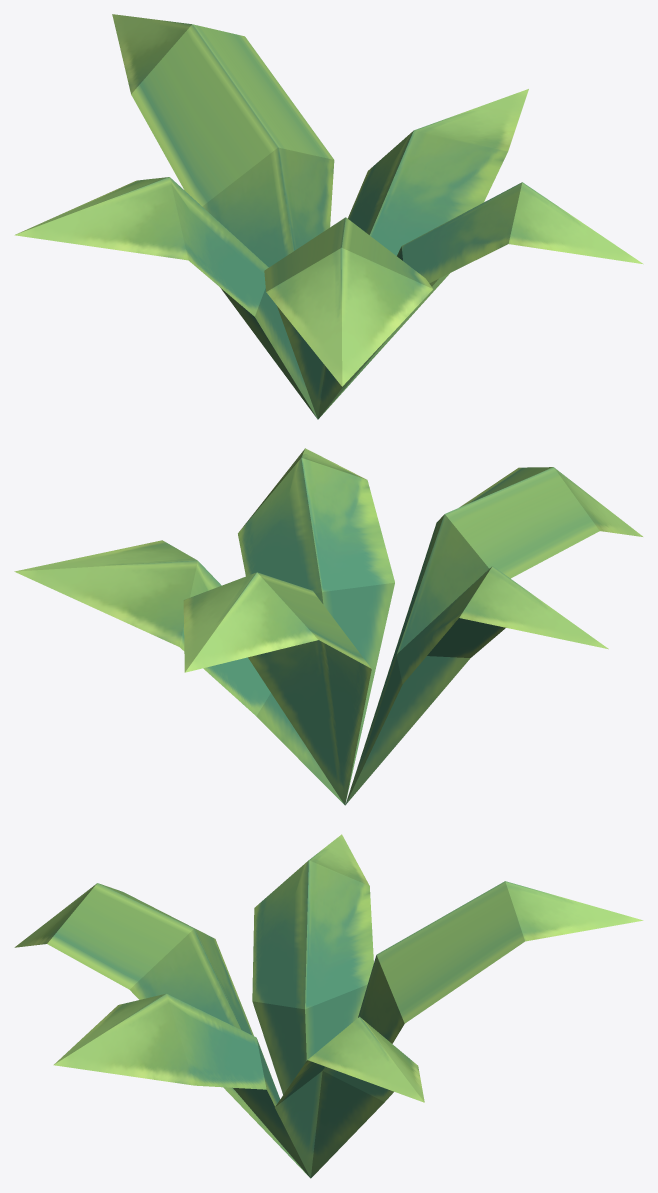
Rendered from Weed3.FBX.
3 renders of one model, top to bottom at view 1: azimuth 30°, elevation 25°; view 2: azimuth 150°, elevation 25°; view 3: azimuth 270°, elevation 25°, orthographic. The views are drawn at different scales.
Visible parts, largest first — view 1: Object110; view 2: Object110; view 3: Object110.
Boxes of the visible parts, bbox=[...] form: Object110: bbox=[14, 14, 643, 419]; Object110: bbox=[14, 448, 642, 805]; Object110: bbox=[14, 834, 643, 1178].
Size of the model in its own units: 17.49 by 9.57 by 18.84.
